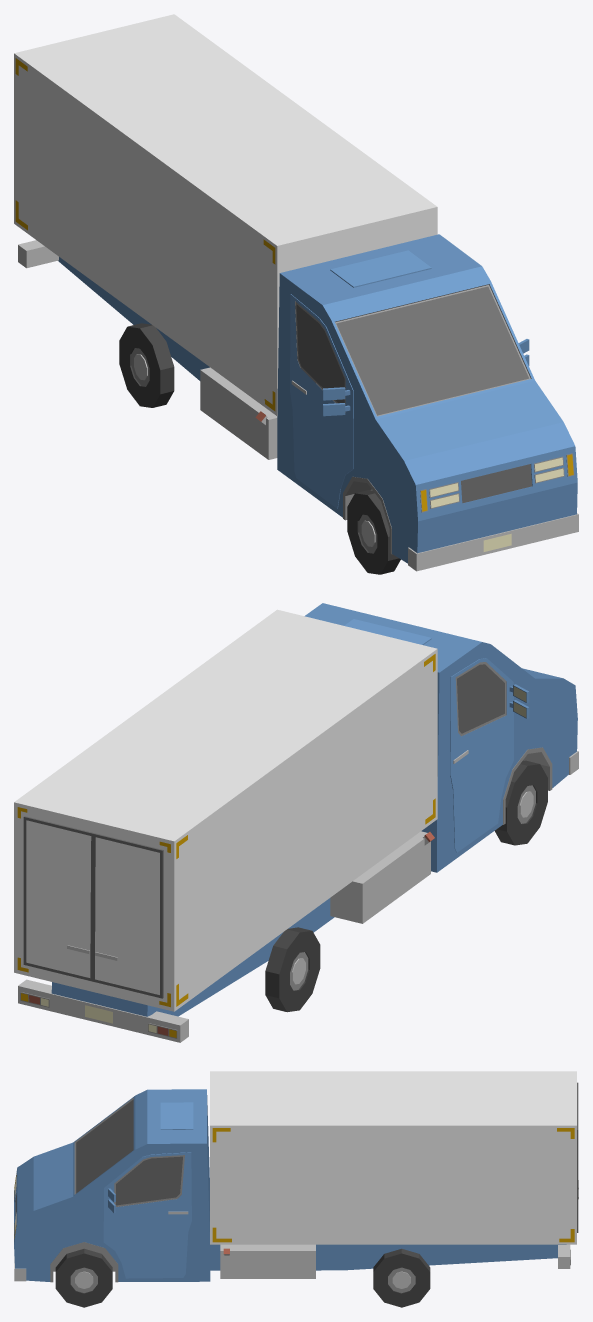
The model's file is truck.fbx.
3 renders of one model, top to bottom at view 1: azimuth 30°, elevation 25°; view 2: azimuth 150°, elevation 25°; view 3: azimuth 270°, elevation 25°, orthographic. The views are drawn at different scales.
Visible parts, largest first — view 1: wwq, Cylinder_2_3, Cylinder_2_1; view 2: wwq, Cylinder_2_3, Cylinder_2_1; view 3: wwq, Cylinder_2, Cylinder_2_2.
Boxes of the visible parts, x1=… form: wwq: x1=14, y1=14, x2=578, y2=571; Cylinder_2_3: x1=119, y1=323, x2=174, y2=407; Cylinder_2_1: x1=347, y1=490, x2=400, y2=574; wwq: x1=14, y1=603, x2=578, y2=1042; Cylinder_2_3: x1=265, y1=927, x2=320, y2=1012; Cylinder_2_1: x1=495, y1=760, x2=547, y2=845; wwq: x1=14, y1=1071, x2=578, y2=1282; Cylinder_2: x1=55, y1=1248, x2=112, y2=1307; Cylinder_2_2: x1=373, y1=1248, x2=430, y2=1307.
Size of the model in its own units: 169 by 205 by 576.
